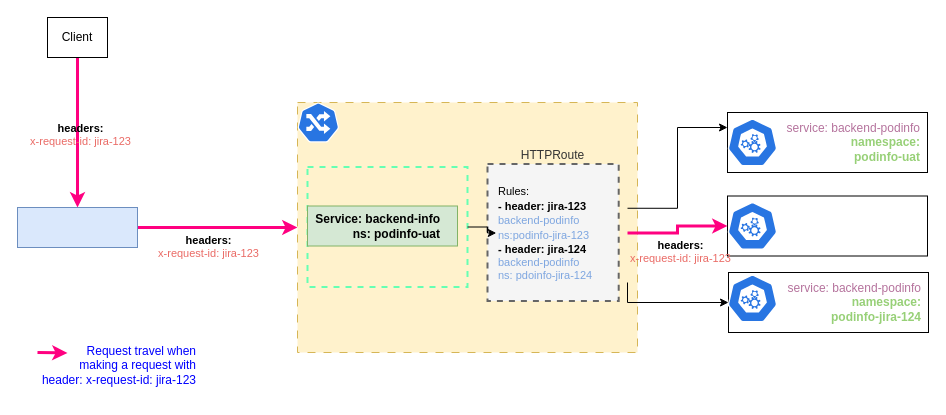
This 946x415 diagram has some shape labels left out. Each missing label, with the box of its shape:
frontend-podinfo: (16, 206, 138, 248)
ParentRef: (306, 166, 468, 288)
service: backend-podinfo namespace: podinfo-jira-123: (726, 195, 928, 256)
